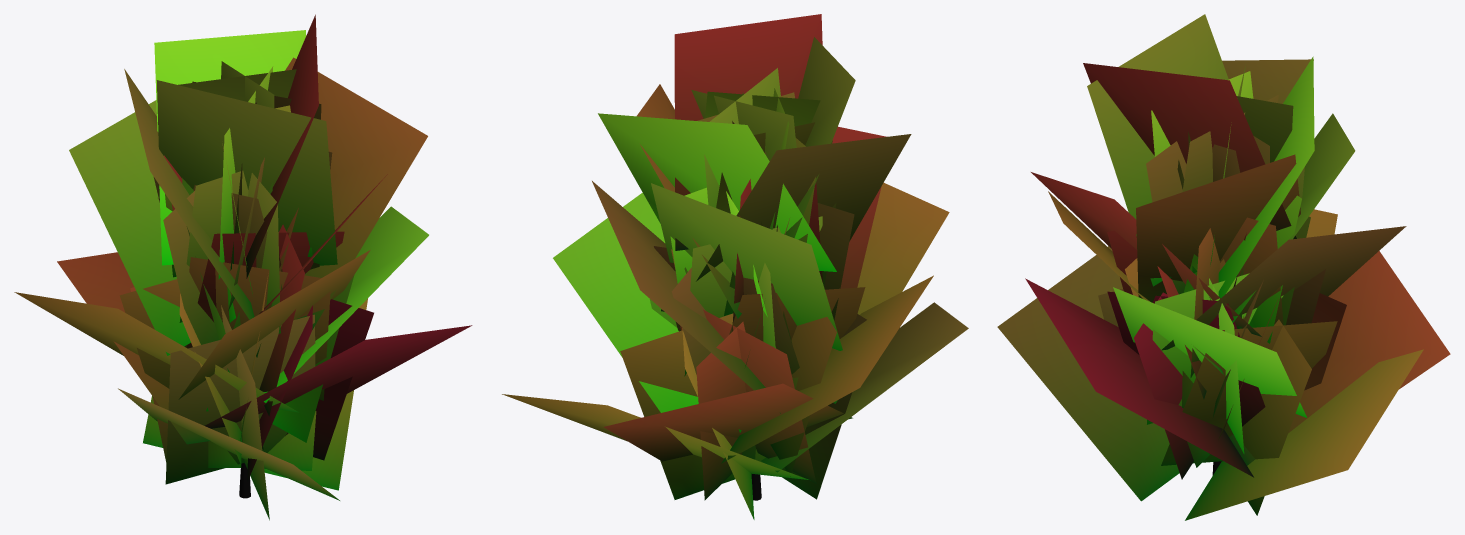
File: Bush_2_2.fbx
3 renders of one model, left to right at view 1: azimuth 30°, elevation 25°; view 2: azimuth 150°, elevation 25°; view 3: azimuth 270°, elevation 25°, orthographic. The views are drawn at different scales.
Visible parts, largest first — view 1: _13; view 2: _13; view 3: _13.
Boxes of the visible parts, left/top/right/bottom form: _13: left=14, top=14, right=472, bottom=520; _13: left=502, top=14, right=968, bottom=519; _13: left=997, top=14, right=1450, bottom=520.
Bounding box in the file's own units: 538 × 650 × 604.
